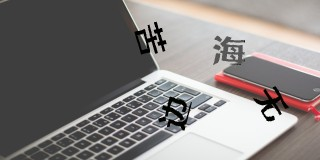无: (254, 84, 289, 122)
海: (213, 34, 247, 66)
苦: (133, 20, 169, 56)
边: (157, 95, 192, 132)
